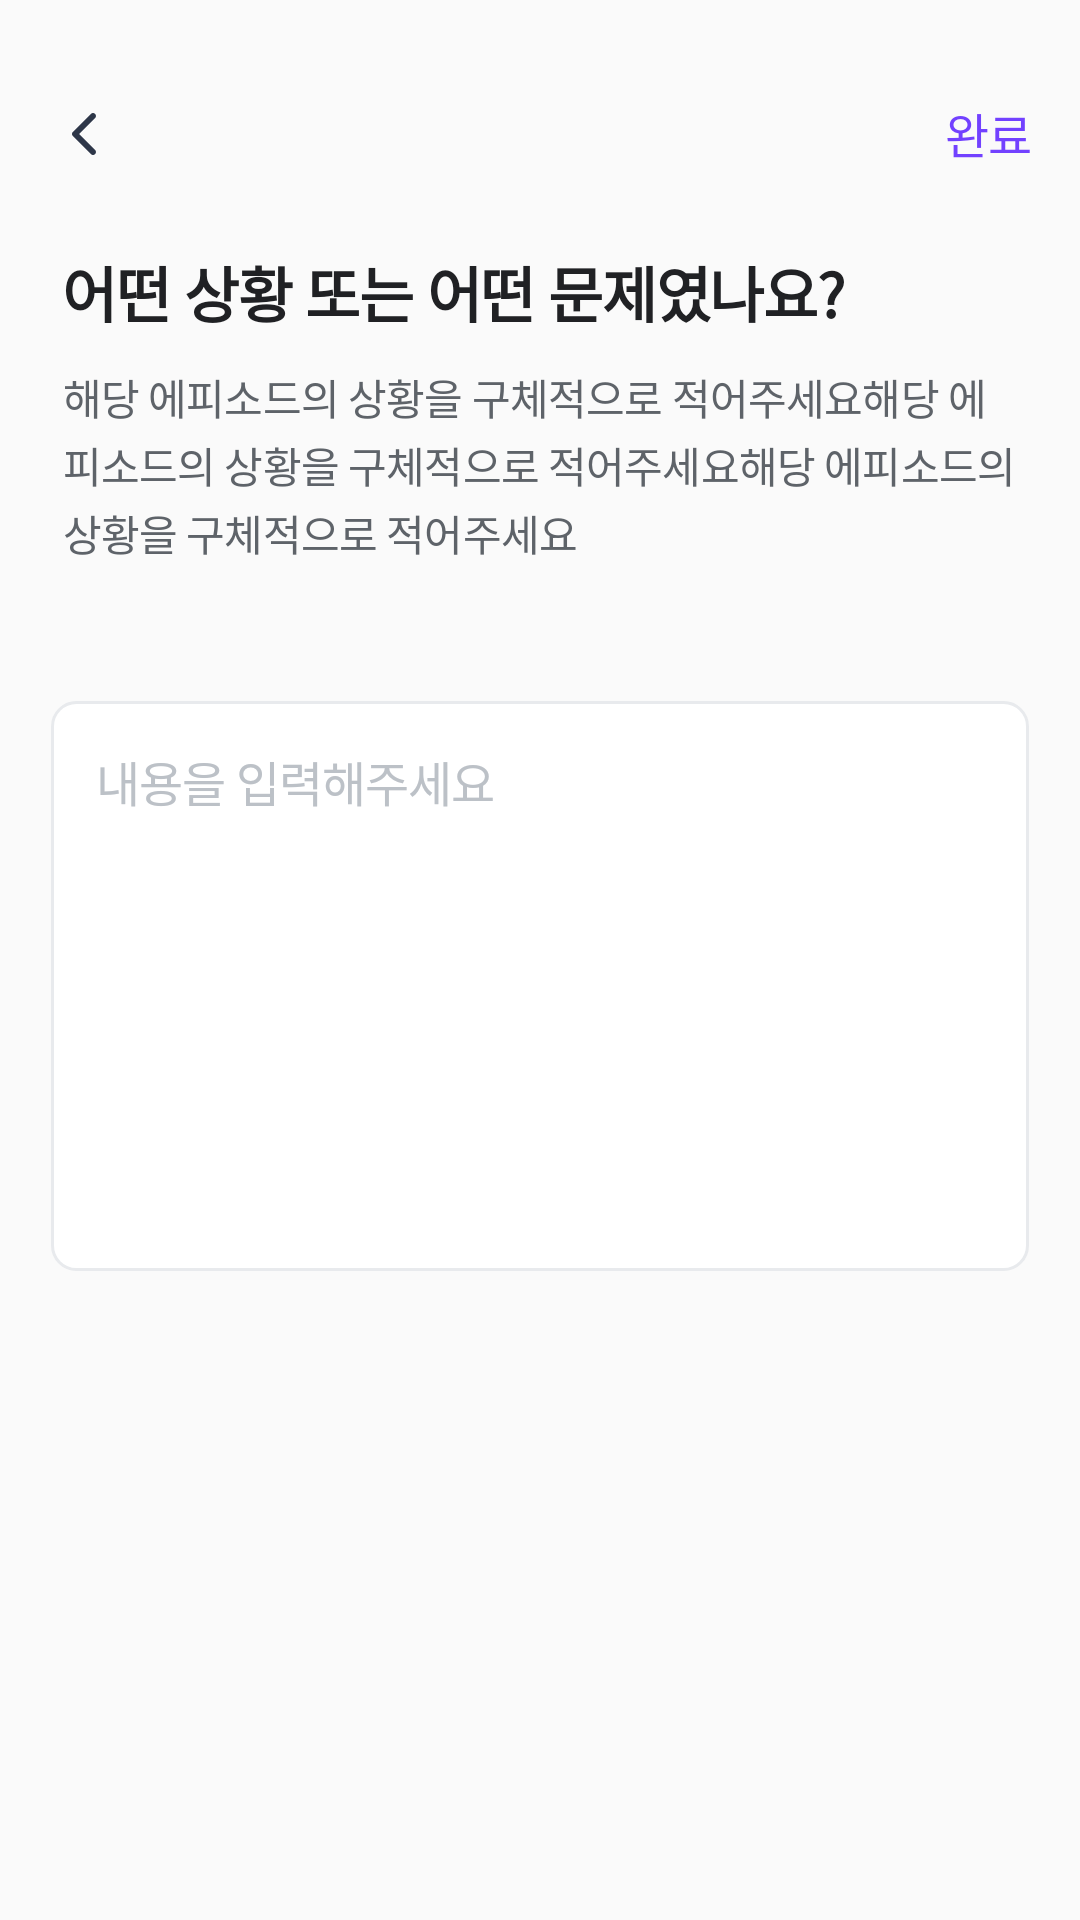

Icons on this 1080 × 1920 Android screen, each with the point to tap as [x,y]:
arrow: [84,134]
